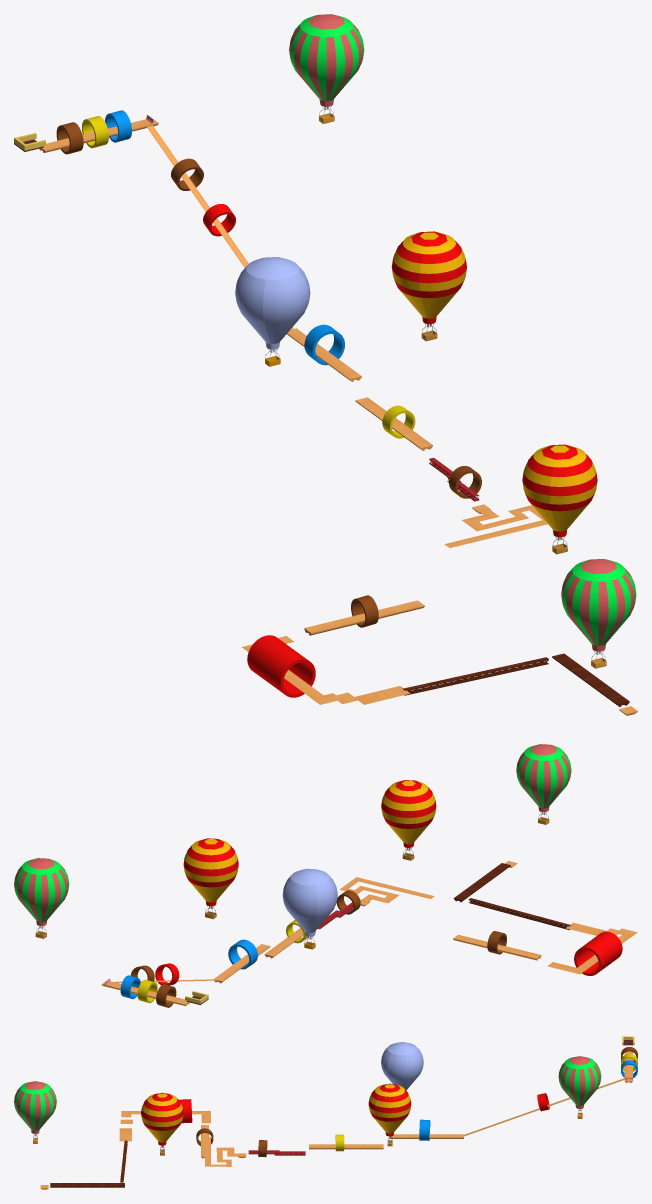
File: LEVEL 17.fbx
3 views of the same model, one above another, from view 1: azimuth 30°, elevation 25°; view 2: azimuth 150°, elevation 25°; view 3: azimuth 270°, elevation 25° (orthographic). The views are drawn at different scales.
Parts seen in each view (by area): view 1: ballon_2, ballon_1, ballon_4, ballon, ballon_3, red_1, RoadElement2__1_, Level_16_Road; view 2: ballon_3, ballon_4, ballon, ballon_1, ballon_2, red_1, RoadElement2__1_, RoadElement2__2_, blue_1, RoadElement2, RoadElement2__4_; view 3: ballon_2, ballon_4, ballon_3, ballon, ballon_1, RoadElement, RoadElement2__2_, RoadElement2, Level_16_Road, red_1, blue_1.
Part boxes in pixels (x1,y1,x2,y2): ballon_2: (391,231,466,341); ballon_1: (235,257,310,366); ballon_4: (561,559,636,668); ballon: (289,14,364,123); ballon_3: (522,444,597,554); red_1: (247,635,315,697); RoadElement2__1_: (304,600,424,635); Level_16_Road: (146,125,293,329); ballon_3: (381,780,436,860); ballon_4: (516,744,571,824); ballon: (14,858,69,938); ballon_1: (282,868,337,949); ballon_2: (183,838,238,919); red_1: (574,931,622,975); RoadElement2__1_: (453,934,541,960); RoadElement2__2_: (453,863,510,902); blue_1: (228,939,257,969); RoadElement2: (214,944,270,983); RoadElement2__4_: (101,981,189,1006); ballon_2: (368,1083,411,1146); ballon_4: (14,1081,56,1143); ballon_3: (141,1092,183,1155); ballon: (558,1056,601,1118); ballon_1: (381,1042,423,1090); RoadElement: (309,1144,383,1149); RoadElement2__2_: (50,1183,124,1187); RoadElement2: (389,1134,463,1138); Level_16_Road: (464,1078,624,1136); red_1: (179,1099,192,1123); blue_1: (419,1119,430,1140).
Size of the model in its own units: 9617 by 6287 by 20135.
Materials: 25 (11 with a texture image).
